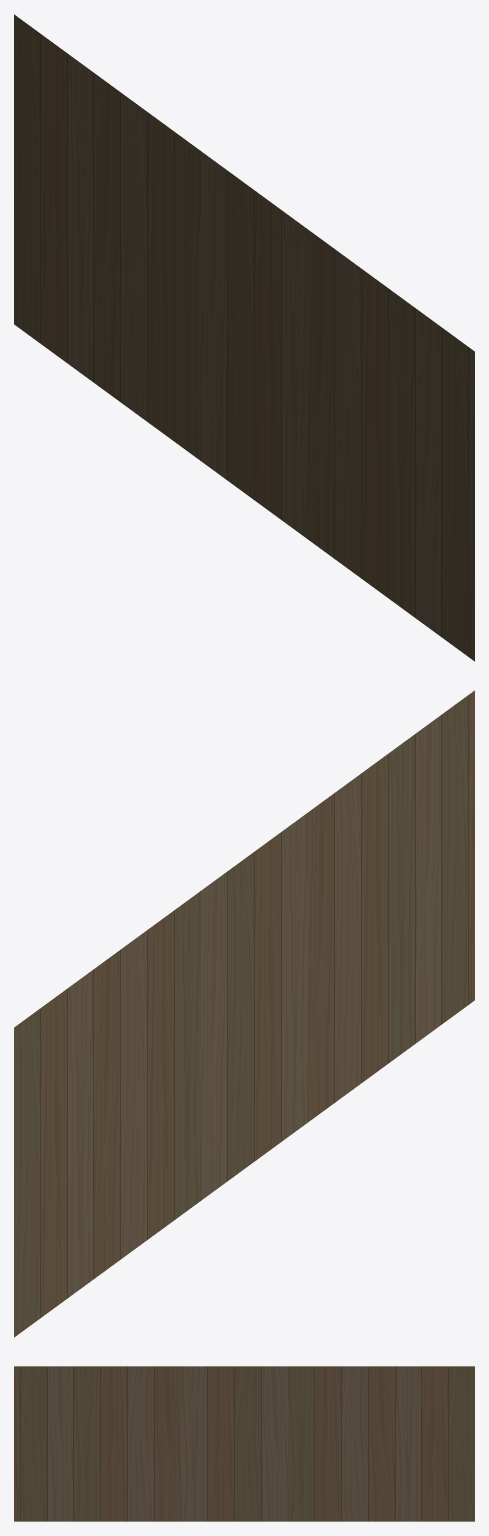
The model's file is kd_stage_135ded_4_9_exterior_piece_2.glb.
3 renders of one model, top to bottom at view 1: azimuth 30°, elevation 25°; view 2: azimuth 150°, elevation 25°; view 3: azimuth 270°, elevation 25°, orthographic. The views are drawn at different scales.
Visible parts, largest first — view 1: kd_stage_135ded_4_9_exterior_piece_2; view 2: kd_stage_135ded_4_9_exterior_piece_2; view 3: kd_stage_135ded_4_9_exterior_piece_2.
Part boxes in pixels (x1,y1,x2,y2): kd_stage_135ded_4_9_exterior_piece_2: (14,14,474,661); kd_stage_135ded_4_9_exterior_piece_2: (14,690,474,1337); kd_stage_135ded_4_9_exterior_piece_2: (14,1366,474,1521).
Size of the model in its own units: 9.54e-07 by 0.34 by 0.9161.
Materials: 1 (1 with a texture image).
